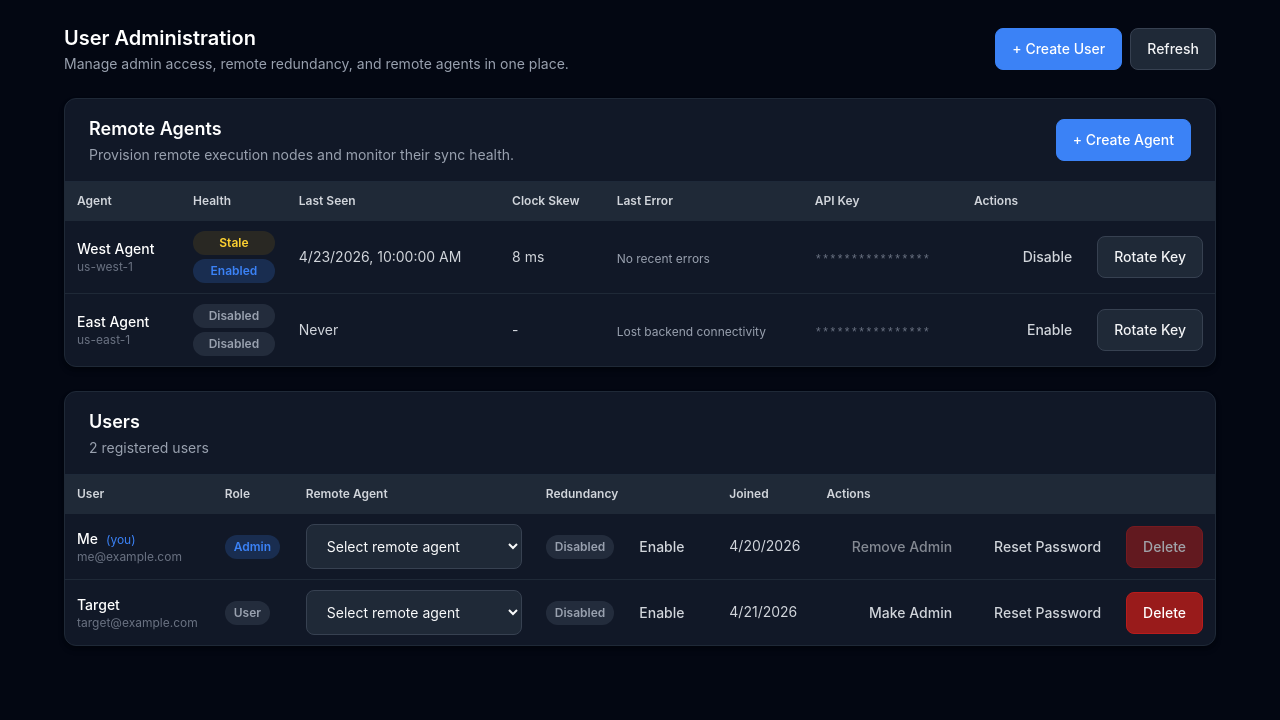
Test: Admin remote redundancy UI › toggles a remote agent enabled state
Expected: the heading "Remote Agents" is shown, [89,118,222,139]
Expected: the heading "Users" is shown, [89,411,140,432]
Click the button "Disable". click: coordinates (1047, 257)
box: [1006,236,1089,278]
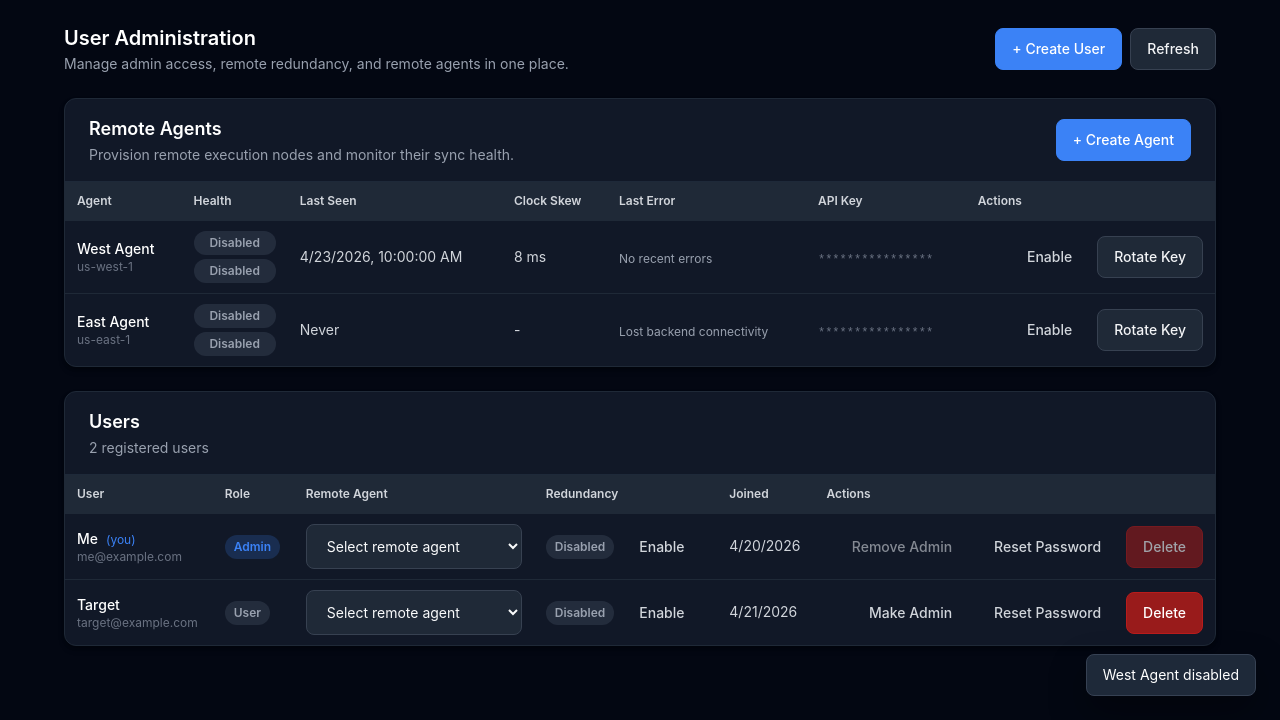
Result: the button "Enable" in the row of "us-west-1" is shown at [1010,236,1089,278]
